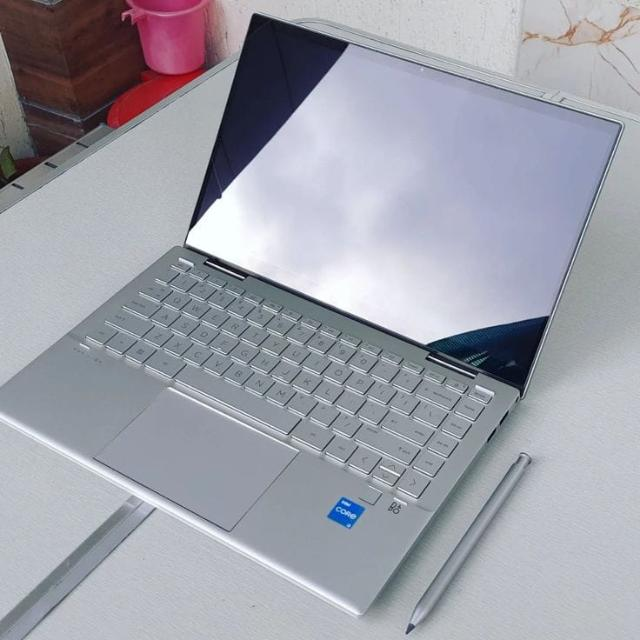laptop: (0, 11, 640, 592)
